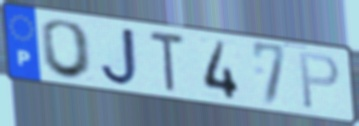4: (200, 38, 242, 102)
7: (250, 41, 288, 112)
J: (98, 25, 140, 87)
O: (40, 18, 96, 82)
P: (297, 50, 342, 112)
T: (147, 28, 187, 94)
